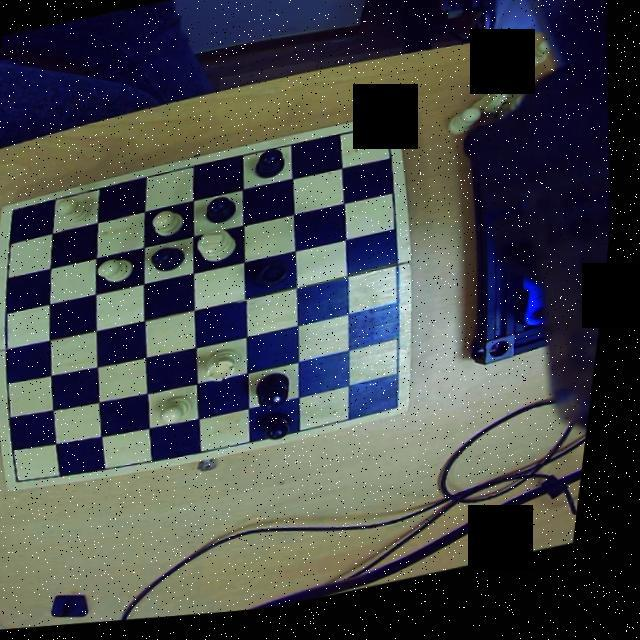chess-table-corners: (388, 400, 417, 426), (3, 200, 35, 222), (376, 124, 402, 148), (12, 468, 38, 490)
